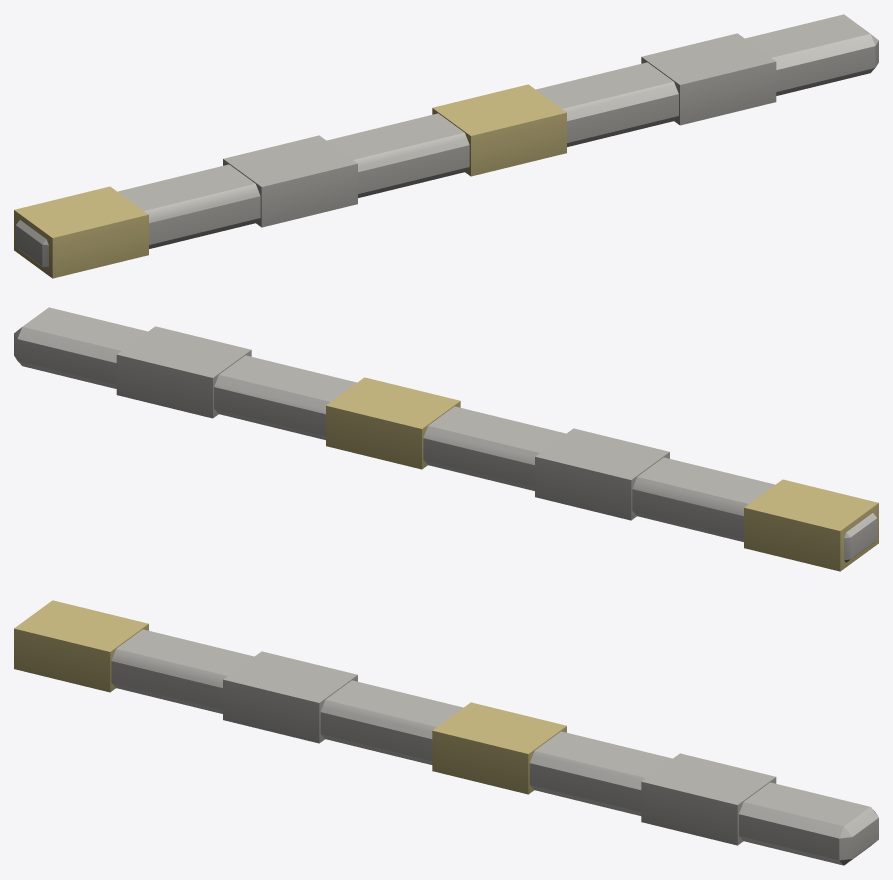
The model's file is mil_kerb.glb.
3 views of the same model, one above another, from view 1: azimuth 30°, elevation 25°; view 2: azimuth 150°, elevation 25°; view 3: azimuth 330°, elevation 25° (orthographic).
Parts seen in each view (by area): view 1: mil_kerb; view 2: mil_kerb; view 3: mil_kerb.
Part boxes in pixels (<box>): mil_kerb: <box>14,14,878,278</box>; mil_kerb: <box>14,307,878,571</box>; mil_kerb: <box>14,600,878,865</box>.
Bounding box in the file's own units: 4 × 0.185 × 0.32.
